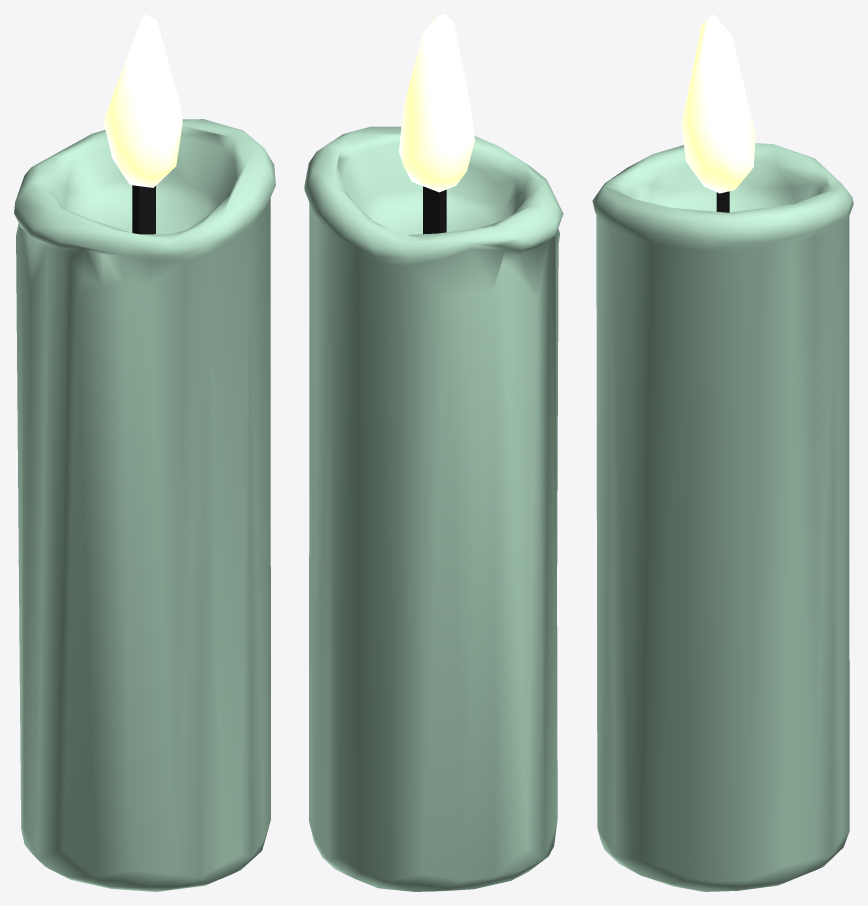
The picture shows the model from 3 angles, left to right: view 1: azimuth 30°, elevation 25°; view 2: azimuth 150°, elevation 25°; view 3: azimuth 270°, elevation 25°; orthographic projection.
Visible parts, largest first — view 1: Cube.002, Cube.001, Plane.007; view 2: Cube.002, Cube.001, Plane.007; view 3: Cube.002, Cube.001.
Boxes of the visible parts, x1,y1,x2,y2 form: Cube.002: (14,119,275,891); Cube.001: (103,14,182,187); Plane.007: (132,185,155,234); Cube.002: (304,126,563,891); Cube.001: (399,14,474,192); Plane.007: (423,186,446,234); Cube.002: (592,143,853,891); Cube.001: (681,14,755,193).
Size of the model in its own units: 0.0651 by 0.2224 by 0.0635.
